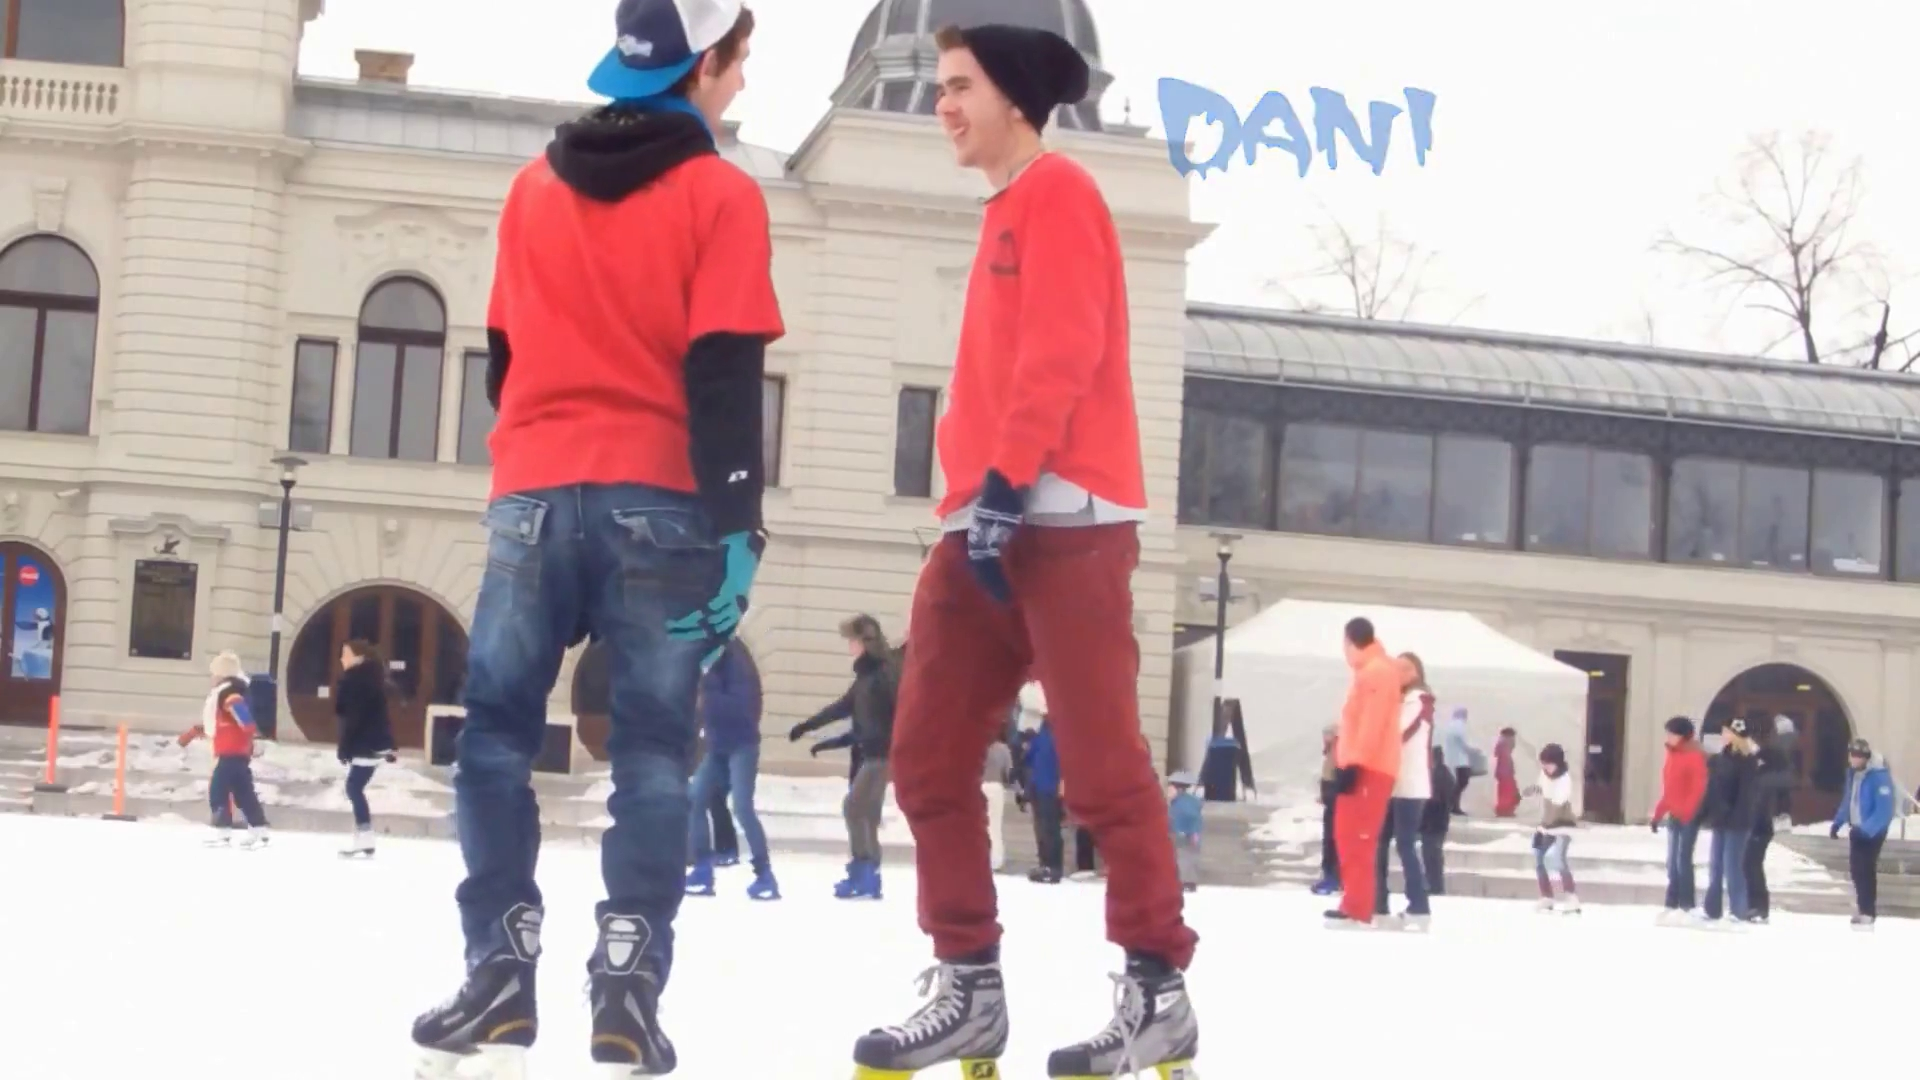person: (411, 1, 789, 1072), (853, 25, 1200, 1080)
